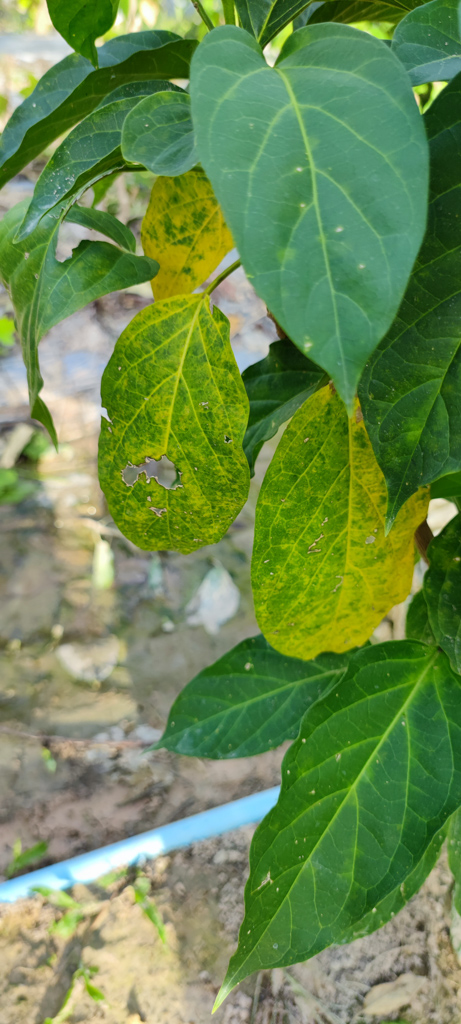Pepper yellow leaf: (249, 370, 436, 667), (91, 299, 252, 560), (139, 155, 237, 309)
